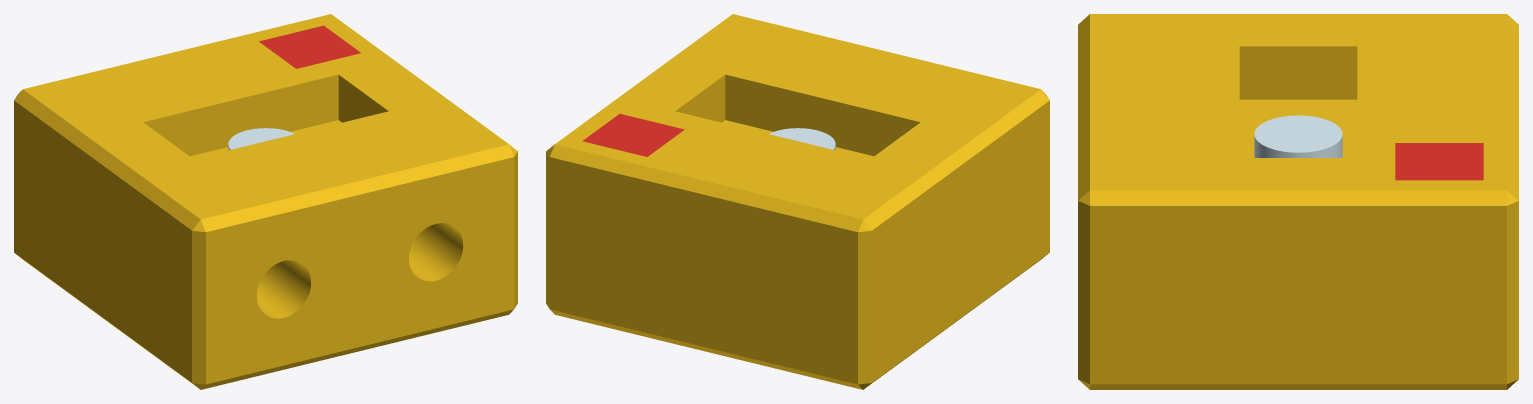
File: phototransistor.glb
The picture shows the model from 3 angles, left to right: view 1: azimuth 30°, elevation 25°; view 2: azimuth 150°, elevation 25°; view 3: azimuth 270°, elevation 25°; orthographic projection. The views are drawn at different scales.
Parts seen in each view (by area): view 1: housing, plus_marking, lens_window; view 2: housing, plus_marking, lens_window; view 3: housing, lens_window, plus_marking.
Part boxes in pixels (box(x1,y1,x2,y2)): housing: box(14, 14, 517, 389); plus_marking: box(259, 25, 360, 68); lens_window: box(228, 128, 294, 150); housing: box(546, 14, 1049, 389); plus_marking: box(582, 114, 684, 156); lens_window: box(769, 128, 835, 150); housing: box(1078, 14, 1518, 389); lens_window: box(1254, 115, 1342, 157); plus_marking: box(1395, 143, 1483, 180).
Size of the model in its own units: 0.015 by 0.0075 by 0.015.
